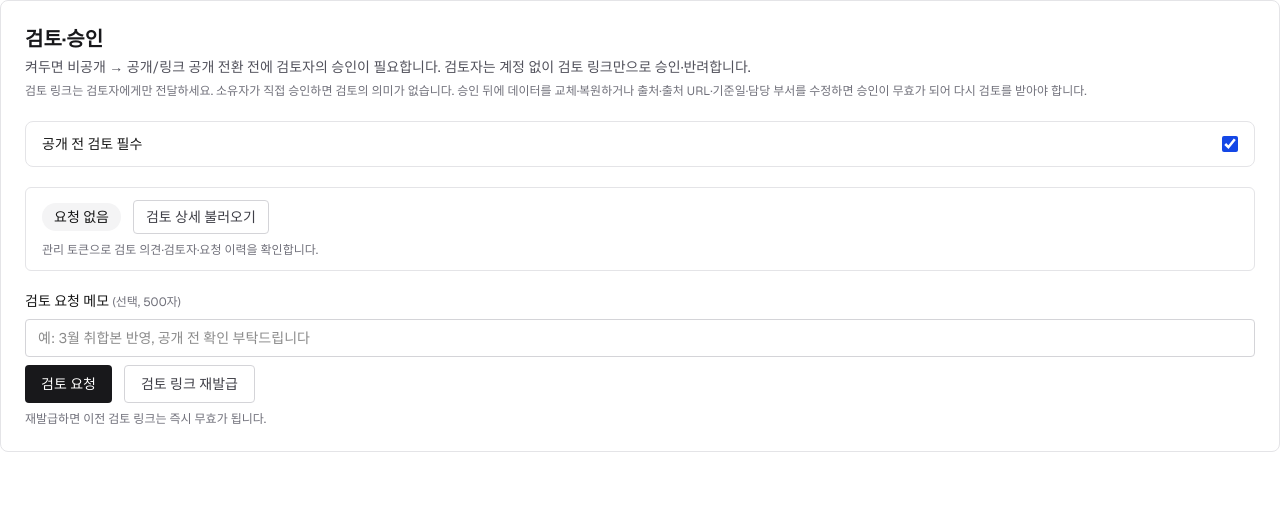
Scenario: ReviewSection › blocks actions without admin token
Step 1. Click the button "검토 요청" → (68, 384), box [25,365,112,403]
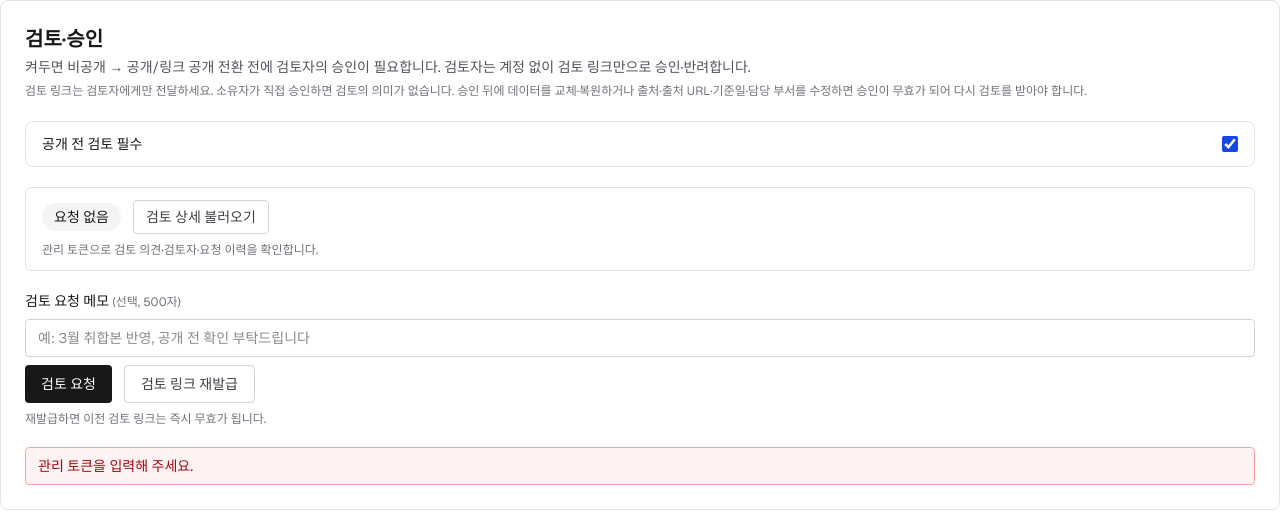
Expected: the text "관리 토큰을 입력해 주세요." is shown, [25,447,1255,485]
